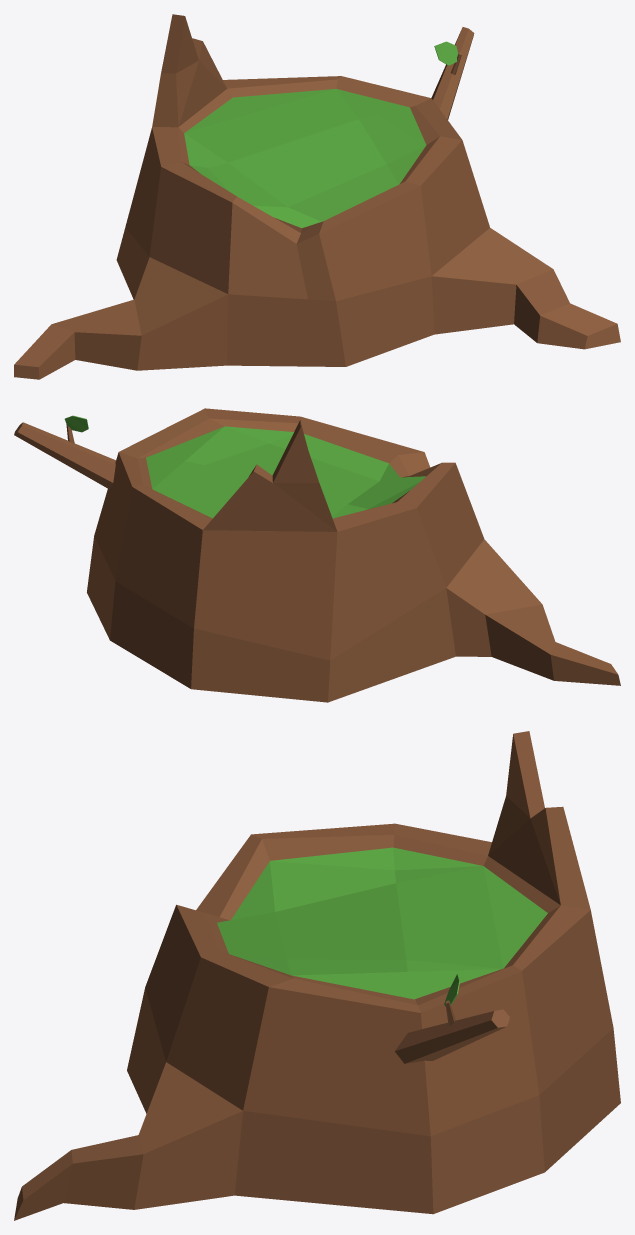
The model's file is mossy-stump.glb.
3 renders of one model, top to bottom at view 1: azimuth 30°, elevation 25°; view 2: azimuth 150°, elevation 25°; view 3: azimuth 270°, elevation 25°, orthographic. The views are drawn at different scales.
Parts seen in each view (by area): view 1: TreeStump_Moss; view 2: TreeStump_Moss; view 3: TreeStump_Moss.
Boxes of the visible parts, left/top/right/bottom form: TreeStump_Moss: left=14, top=14, right=620, bottom=379; TreeStump_Moss: left=14, top=408, right=620, bottom=702; TreeStump_Moss: left=14, top=731, right=620, bottom=1220.
Size of the model in its own units: 2.04 by 0.9324 by 1.55.
